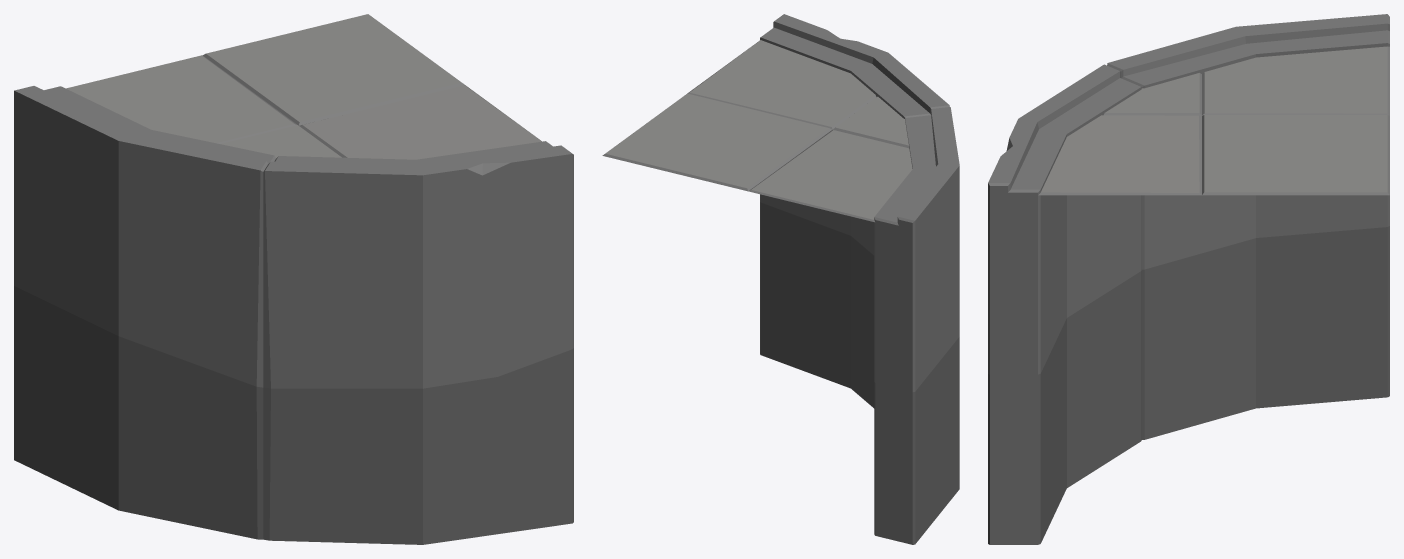
File: SM_Envr_Seawall_Corner_01.fbx
3 renders of one model, left to right at view 1: azimuth 30°, elevation 25°; view 2: azimuth 150°, elevation 25°; view 3: azimuth 270°, elevation 25°, orthographic. The views are drawn at different scales.
Parts seen in each view (by area): view 1: SM_Envr_Seawall_Corner_01; view 2: SM_Envr_Seawall_Corner_01; view 3: SM_Envr_Seawall_Corner_01.
Boxes of the visible parts, x1,y1,x2,y2 form: SM_Envr_Seawall_Corner_01: (14, 14, 573, 544); SM_Envr_Seawall_Corner_01: (602, 14, 959, 544); SM_Envr_Seawall_Corner_01: (988, 14, 1389, 544).
Bounding box in the file's own units: 534 × 530 × 534.
